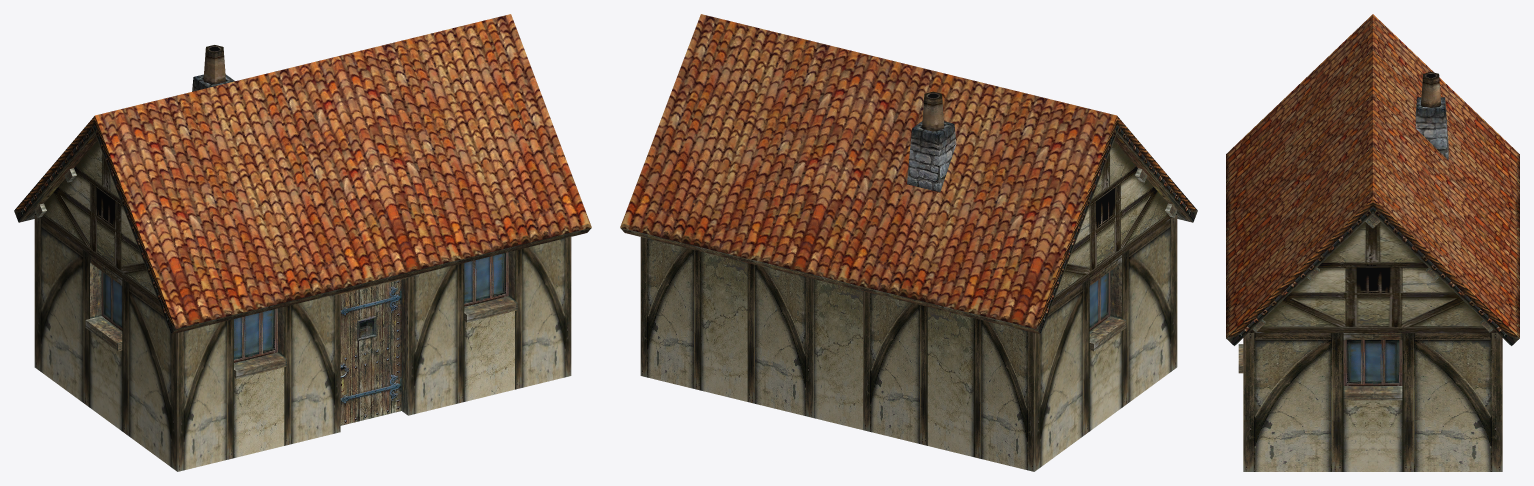
Rendered from S_home14.glb.
The picture shows the model from 3 angles, left to right: view 1: azimuth 30°, elevation 25°; view 2: azimuth 150°, elevation 25°; view 3: azimuth 270°, elevation 25°; orthographic projection. The views are drawn at different scales.
Parts seen in each view (by area): view 1: S_home14-col; view 2: S_home14-col; view 3: S_home14-col.
Boxes of the visible parts, <box> form: S_home14-col: <box>14,14,591,471</box>; S_home14-col: <box>620,14,1197,471</box>; S_home14-col: <box>1226,14,1519,471</box>.
Size of the model in its own units: 7.4 by 5.32 by 4.98.
Materials: 9 (9 with a texture image).
